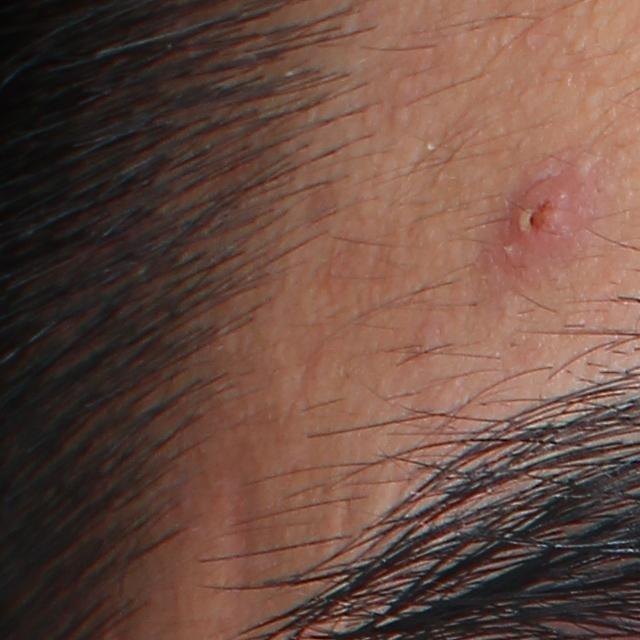papule: (488, 156, 603, 271)
